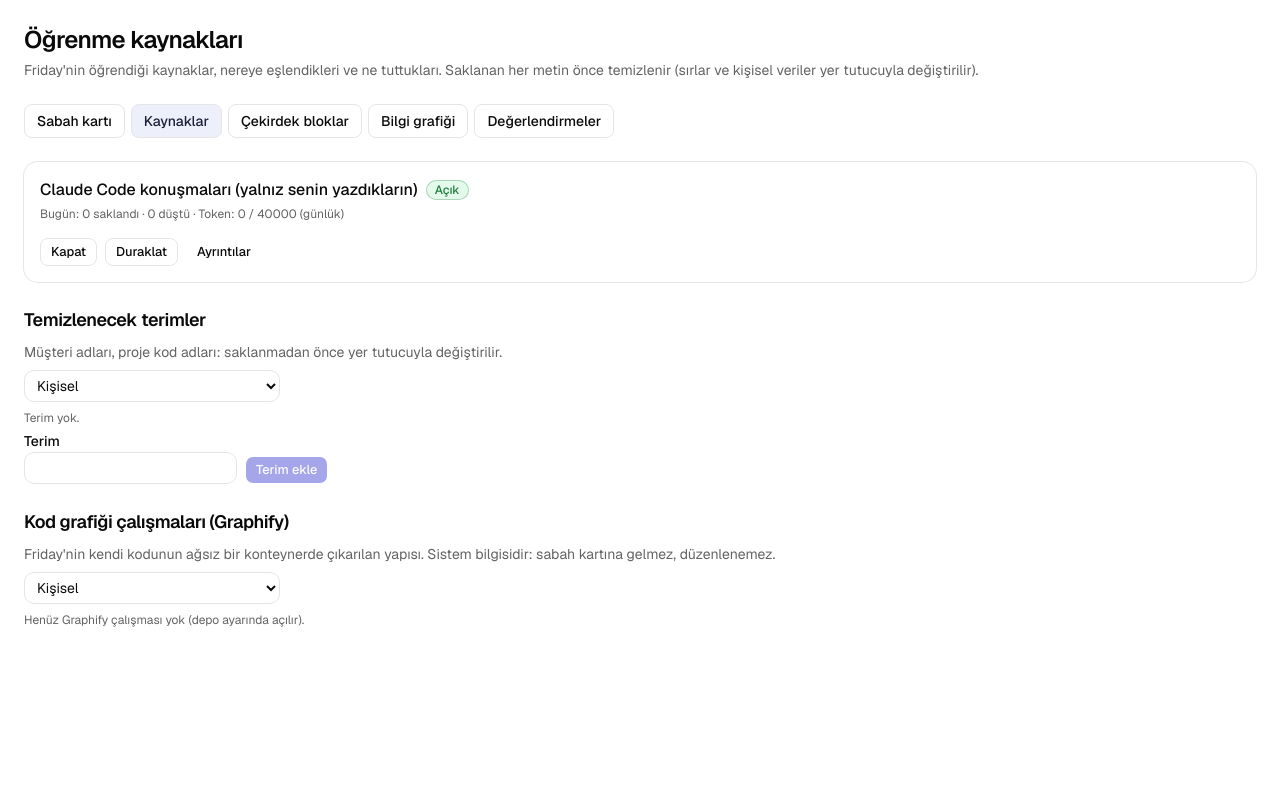
Test: transcript audit view (Phase 8B branch 9) › per cursor: since_clamped, the last skipped window and tie_overflow
Click the button "Ayrıntılar" at x=224, y=252, box x1=186 y1=238 x2=262 y2=266
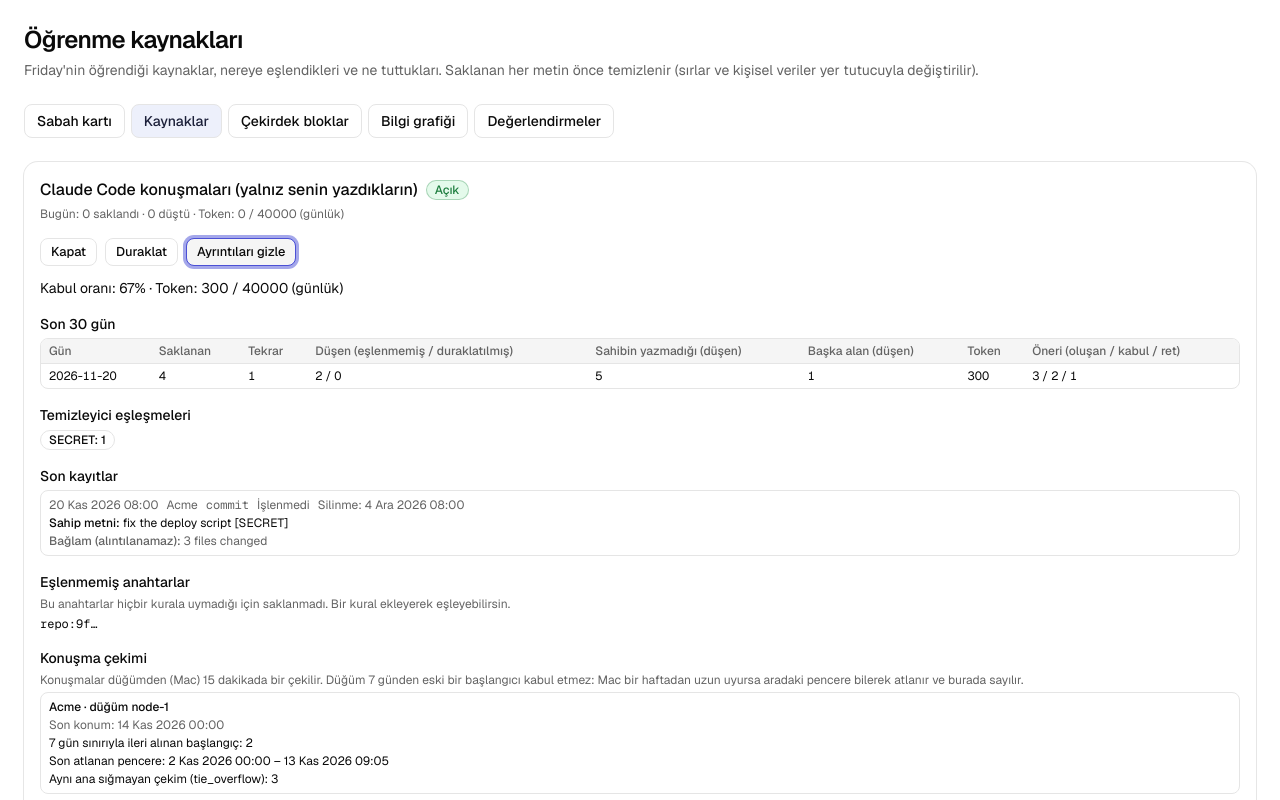
Expected: the element with test id "transcript-cursors" shows "Acme · düğüm node-1", x1=49 y1=699 x2=169 y2=715
Expected: the element with test id "transcript-cursors" shows "7 gün sınırıyla ileri alınan başlangıç: 2", x1=49 y1=735 x2=253 y2=751
Expected: the element with test id "transcript-cursors" shows "Son atlanan pencere:", x1=49 y1=753 x2=389 y2=769
